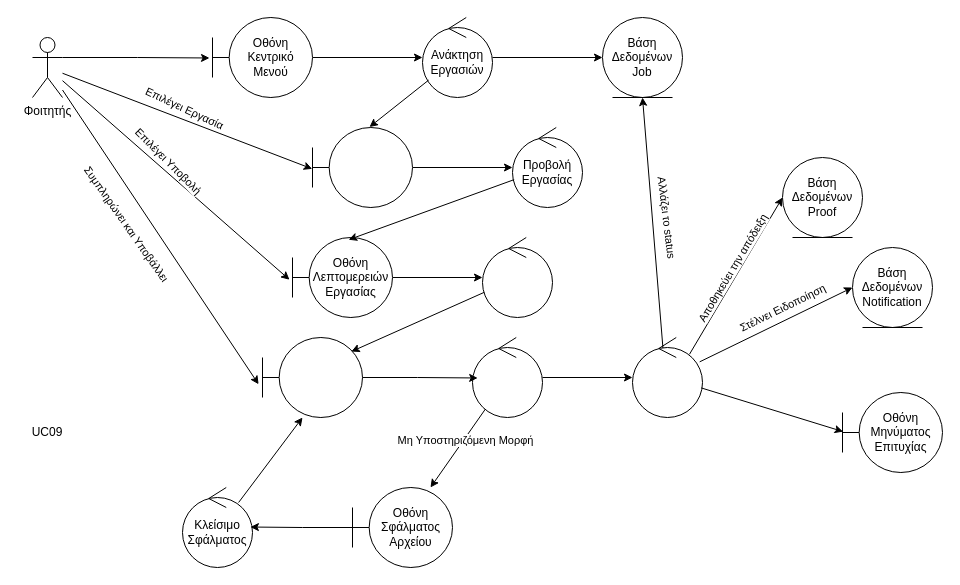
Some shapes in this 960 by 585 pixel diagram are drawn without their labels. The shapes that lost their labels are listed below. From the top down, each one's box as (x1, y1, x2, y2) in pixels, then its label:
(312, 126, 412, 208): Οθόνη Ενεργών Εργασιών
(482, 236, 552, 318): Άνοιγμα Φόρμας
(262, 336, 362, 418): Οθόνη Φόρμας Υποβολής Απόδειξης
(472, 336, 542, 418): Έλεγχος Αρχείου
(632, 336, 702, 418): Αποθήκευση
